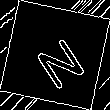N_NW: (24, 23, 86, 87)
